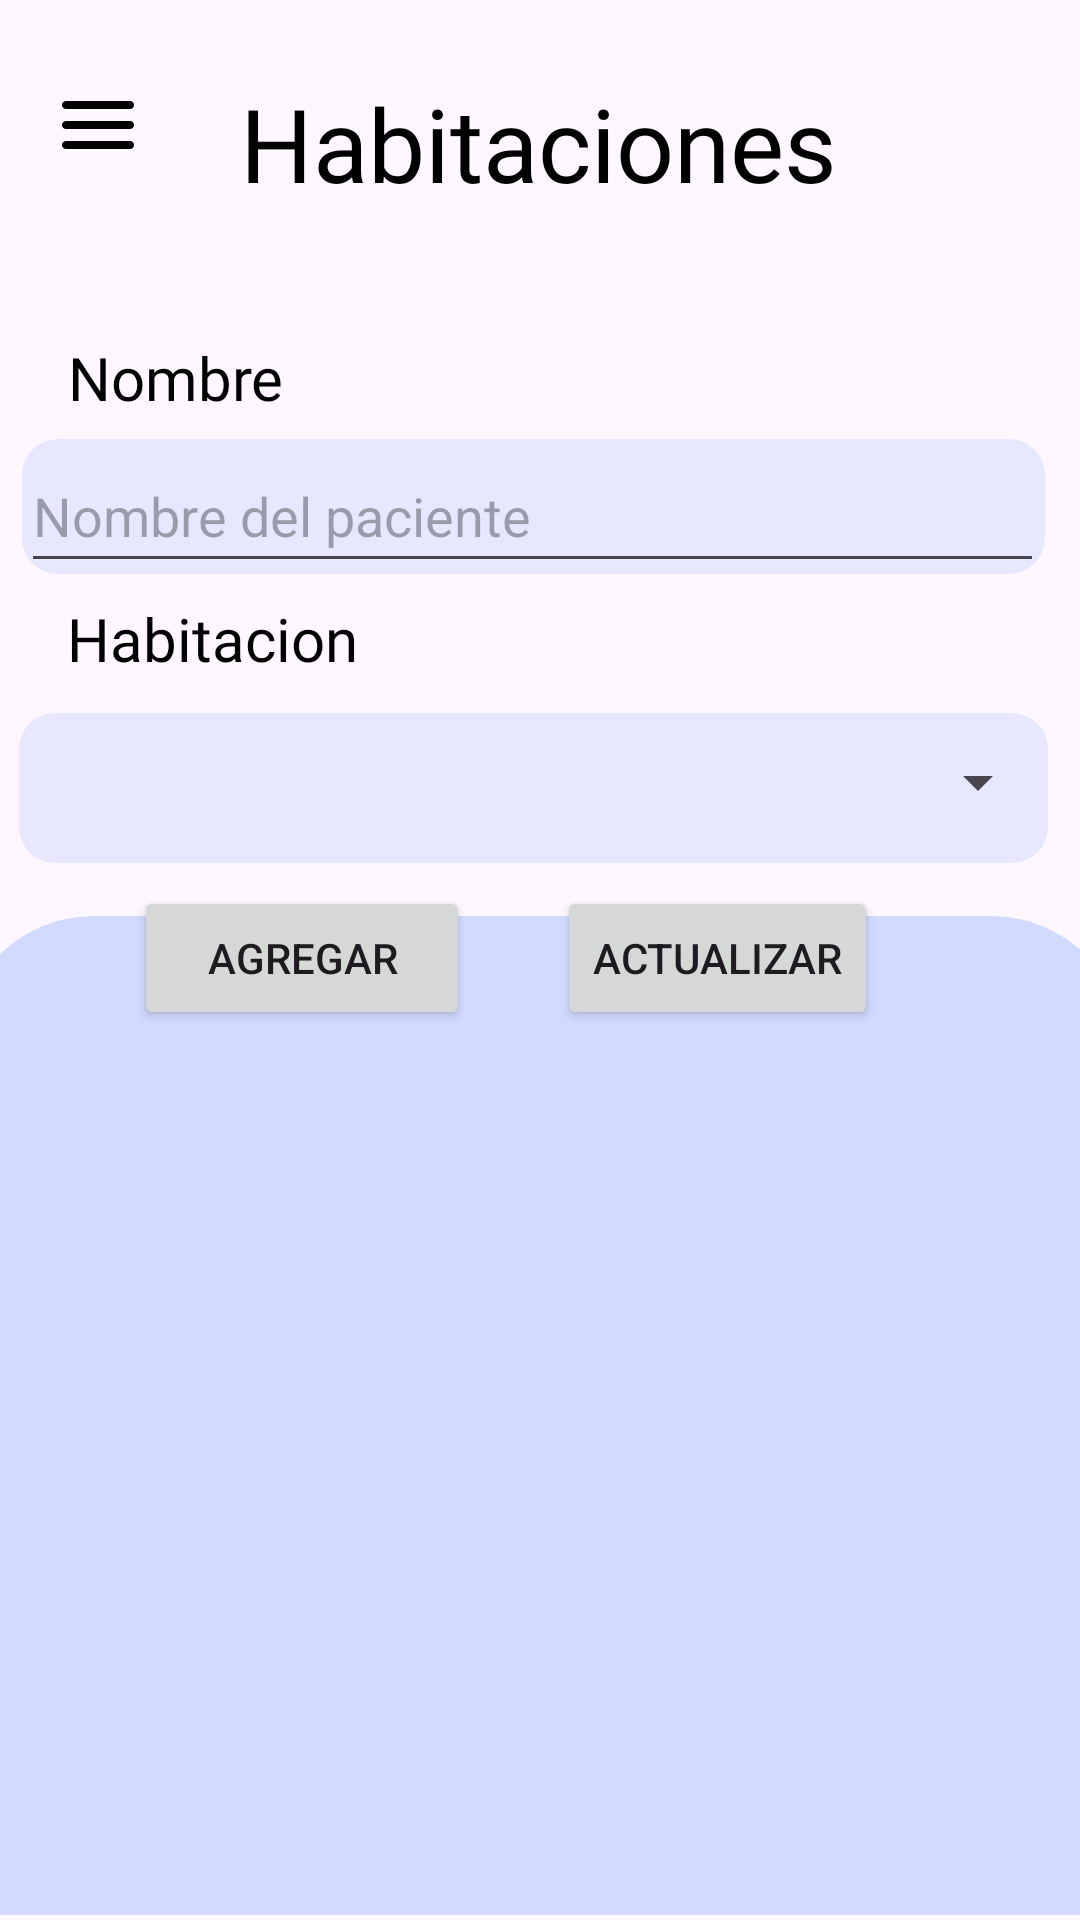

Icons on this 1080 x 1920 Android screen, each with its box as (x1, y1, x2, y2):
menu: (62, 101, 134, 149)
